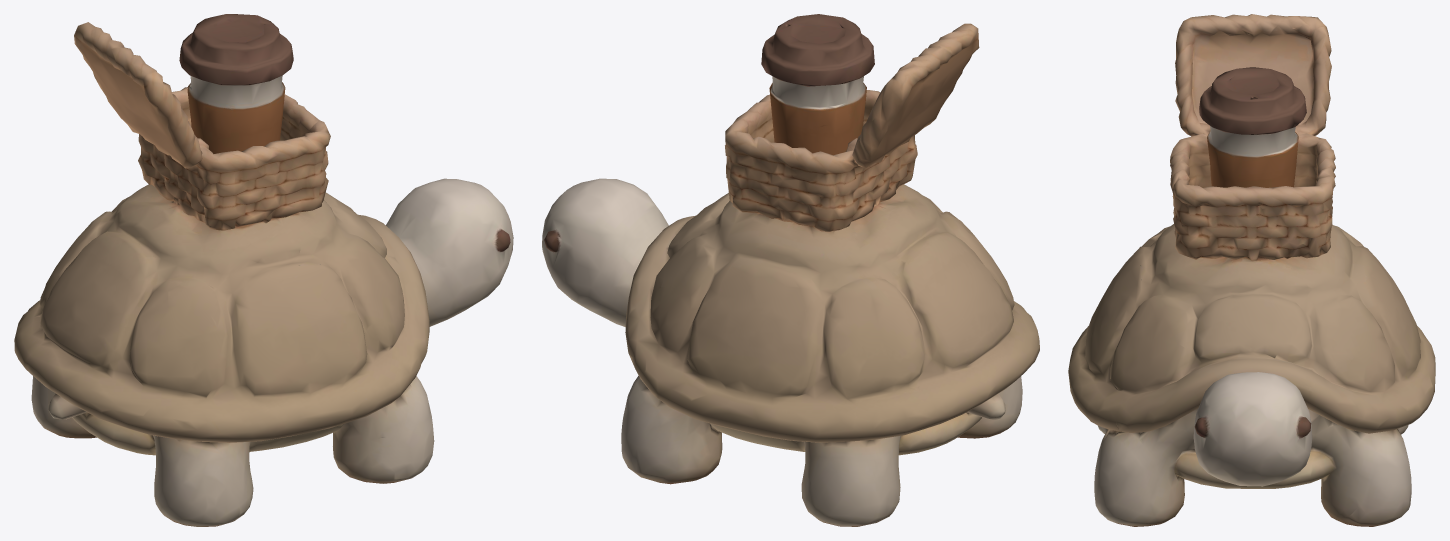
File: tortoise-v2.glb
3 renders of one model, left to right at view 1: azimuth 30°, elevation 25°; view 2: azimuth 150°, elevation 25°; view 3: azimuth 270°, elevation 25°, orthographic. The views are drawn at different scales.
Parts seen in each view (by area): view 1: tripo_node_3923fe52-67b0-4974-9cd3-3356f73b211f; view 2: tripo_node_3923fe52-67b0-4974-9cd3-3356f73b211f; view 3: tripo_node_3923fe52-67b0-4974-9cd3-3356f73b211f.
Boxes of the visible parts, x1,y1,x2,y2 form: tripo_node_3923fe52-67b0-4974-9cd3-3356f73b211f: (14,14,513,526); tripo_node_3923fe52-67b0-4974-9cd3-3356f73b211f: (542,14,1039,526); tripo_node_3923fe52-67b0-4974-9cd3-3356f73b211f: (1068,14,1435,526).
Size of the model in its own units: 1 by 0.8889 by 0.7305.
Materials: 1 (1 with a texture image).
